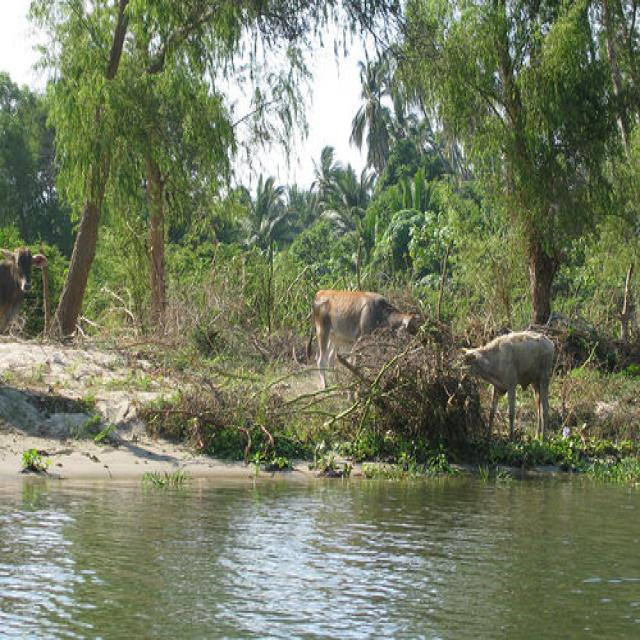cow: (307, 289, 421, 392), (466, 331, 557, 442), (1, 245, 47, 334)
